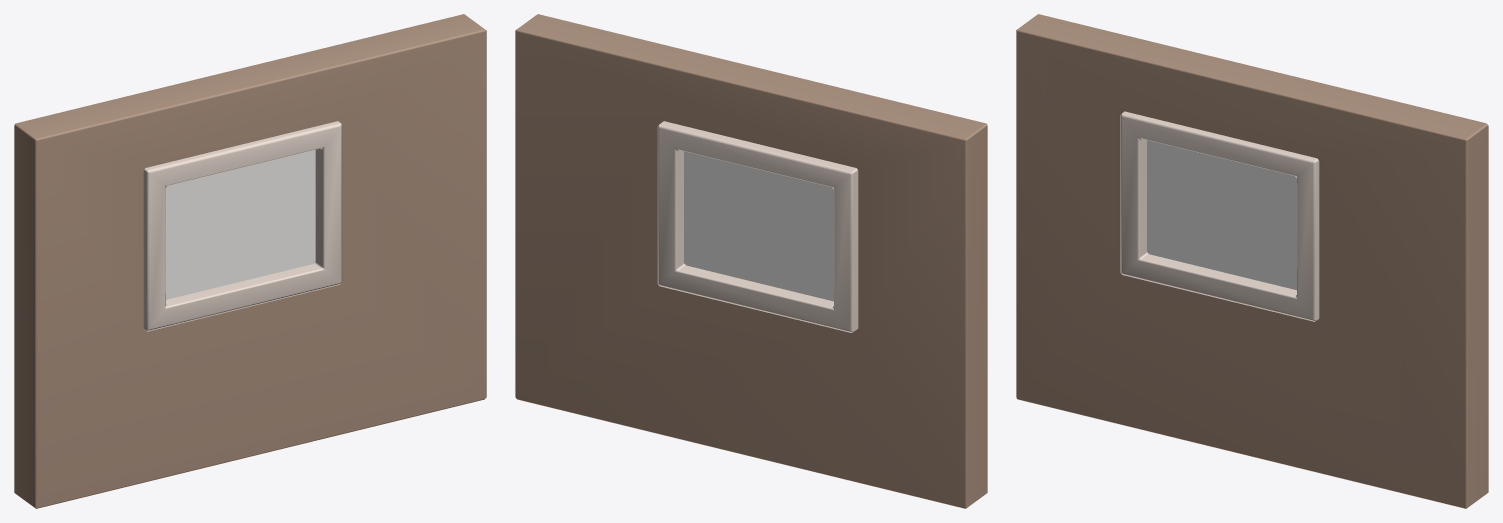
File: Wall_6.glb
3 renders of one model, left to right at view 1: azimuth 30°, elevation 25°; view 2: azimuth 150°, elevation 25°; view 3: azimuth 330°, elevation 25°, orthographic.
Visible parts, largest first — view 1: Wall_6; view 2: Wall_6; view 3: Wall_6.
Part boxes in pixels (bbox=[...]): Wall_6: bbox=[14, 14, 486, 508]; Wall_6: bbox=[515, 14, 987, 508]; Wall_6: bbox=[1016, 14, 1488, 508].
Size of the model in its own units: 4.6 by 3.6 by 0.5595.
Materials: 2 (2 with a texture image).
